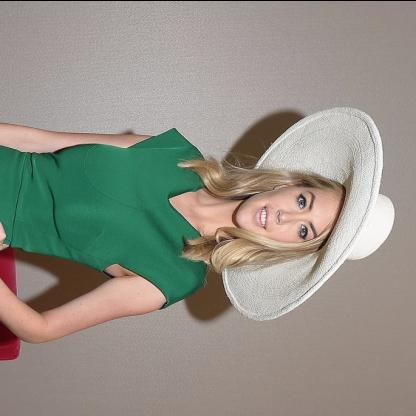hat: (215, 102, 398, 322)
